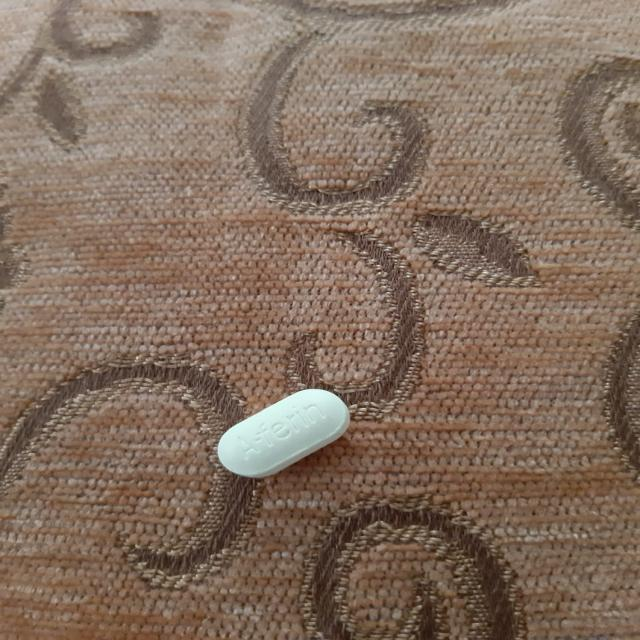pills: (203, 368, 359, 490)
